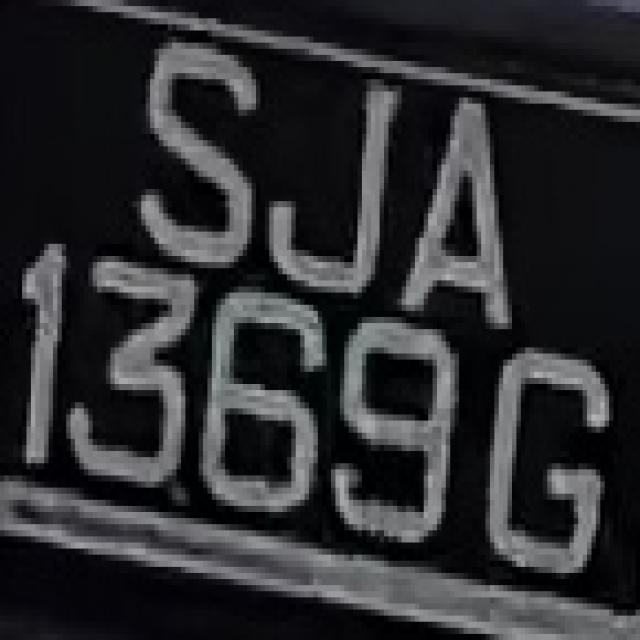1: (9, 219, 75, 494)
3: (79, 238, 190, 500)
6: (198, 274, 326, 530)
9: (318, 298, 472, 560)
A: (384, 85, 538, 348)
G: (486, 305, 604, 585)
J: (265, 55, 393, 299)
S: (119, 43, 256, 274)
